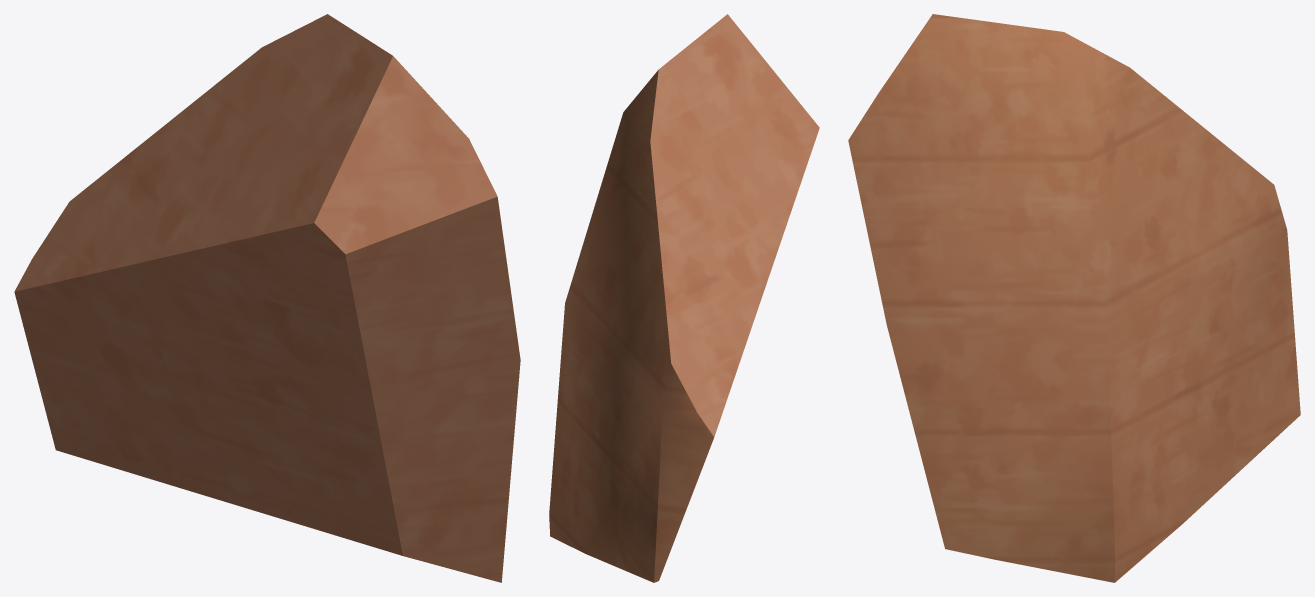
Rendered from kiln_s00.fbx.
3 views of the same model, side by side, from view 1: azimuth 30°, elevation 25°; view 2: azimuth 150°, elevation 25°; view 3: azimuth 270°, elevation 25° (orthographic). The views are drawn at different scales.
Visible parts, largest first — view 1: kiln_s00; view 2: kiln_s00; view 3: kiln_s00.
Boxes of the visible parts, box(x1,y1,x2,y2) form: kiln_s00: box(14, 14, 520, 582); kiln_s00: box(549, 14, 819, 582); kiln_s00: box(848, 14, 1300, 582).
Size of the model in its own units: 2.6 by 5.02 by 3.96.
